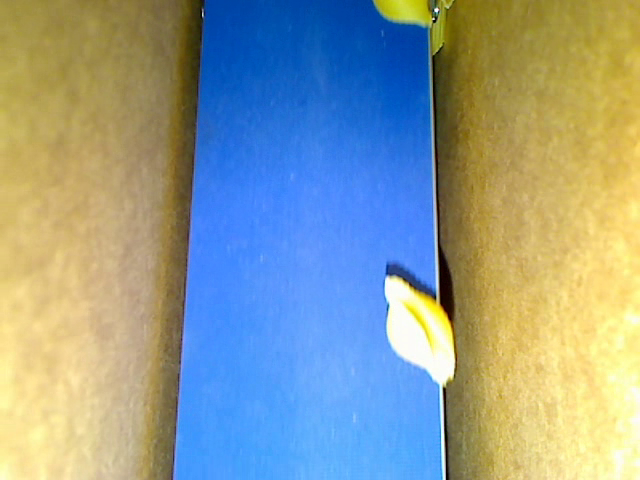penne: (429, 1, 447, 60), (439, 1, 454, 9)
shell: (380, 271, 457, 386), (369, 1, 434, 31)
